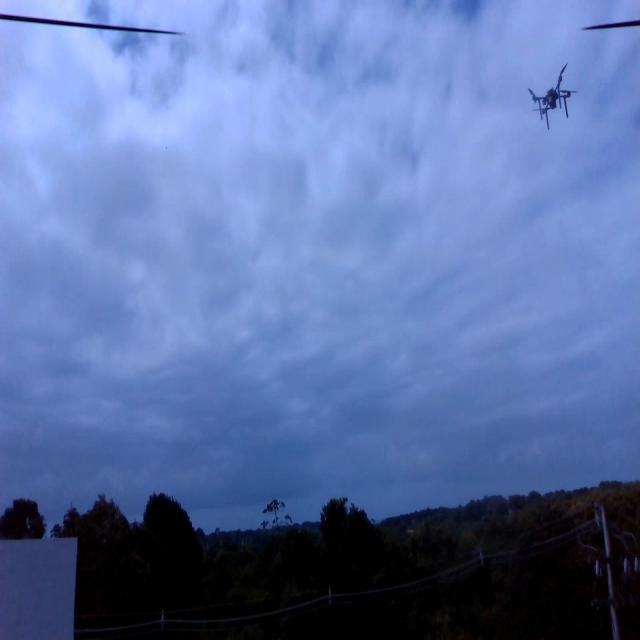-uav-: (524, 56, 583, 135)
